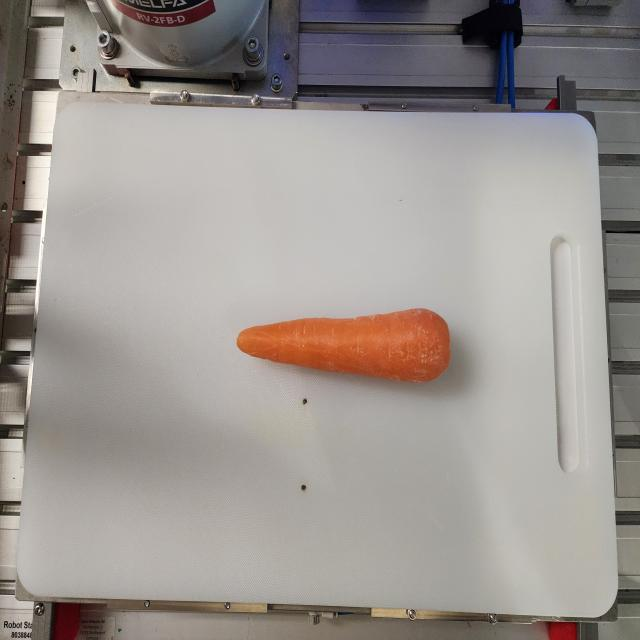carrot: (236, 306, 451, 384)
